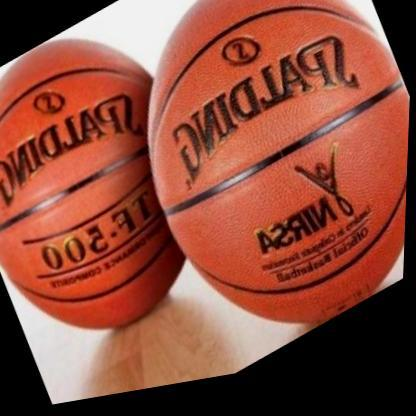basketball: (86, 0, 416, 403), (0, 0, 243, 386)
